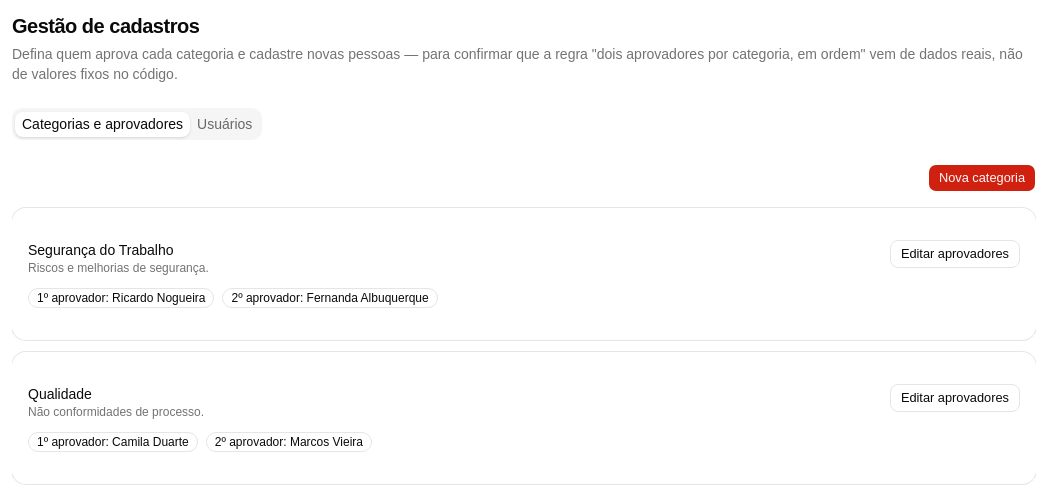
Test: AdminPage › troca para a aba de usuários e lista as pessoas cadastradas
Check: the heading "Segurança do Trabalho" is shown, box top-left (28, 242), bottom-right (174, 258)
Click the tab "Usuários": (225, 124) top-left (190, 112), bottom-right (259, 136)
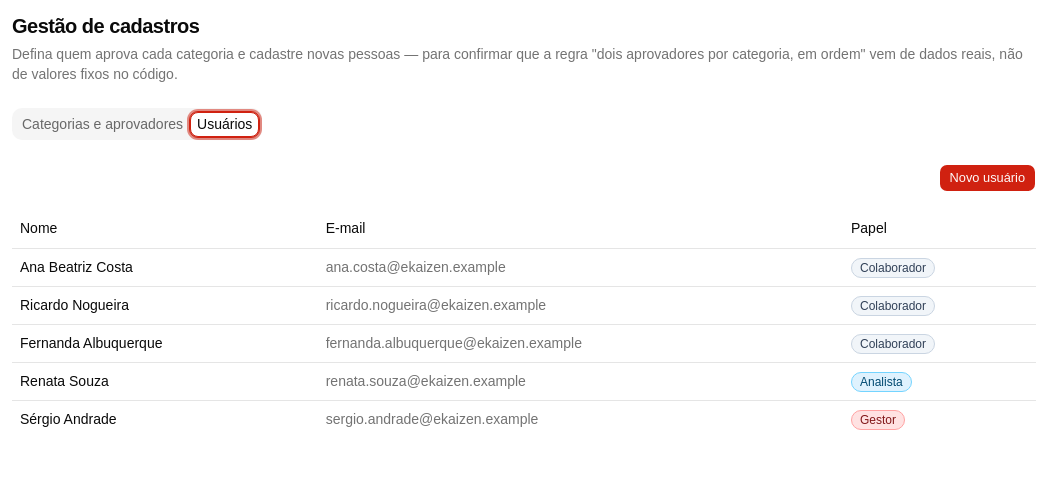
Check: the text "ana.costa@ekaizen.example" is shown, box top-left (318, 248), bottom-right (843, 286)
